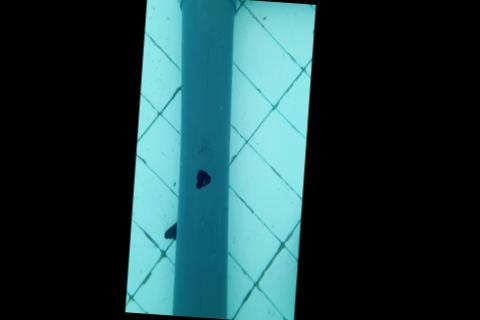kebocoran: (194, 169, 211, 191)
